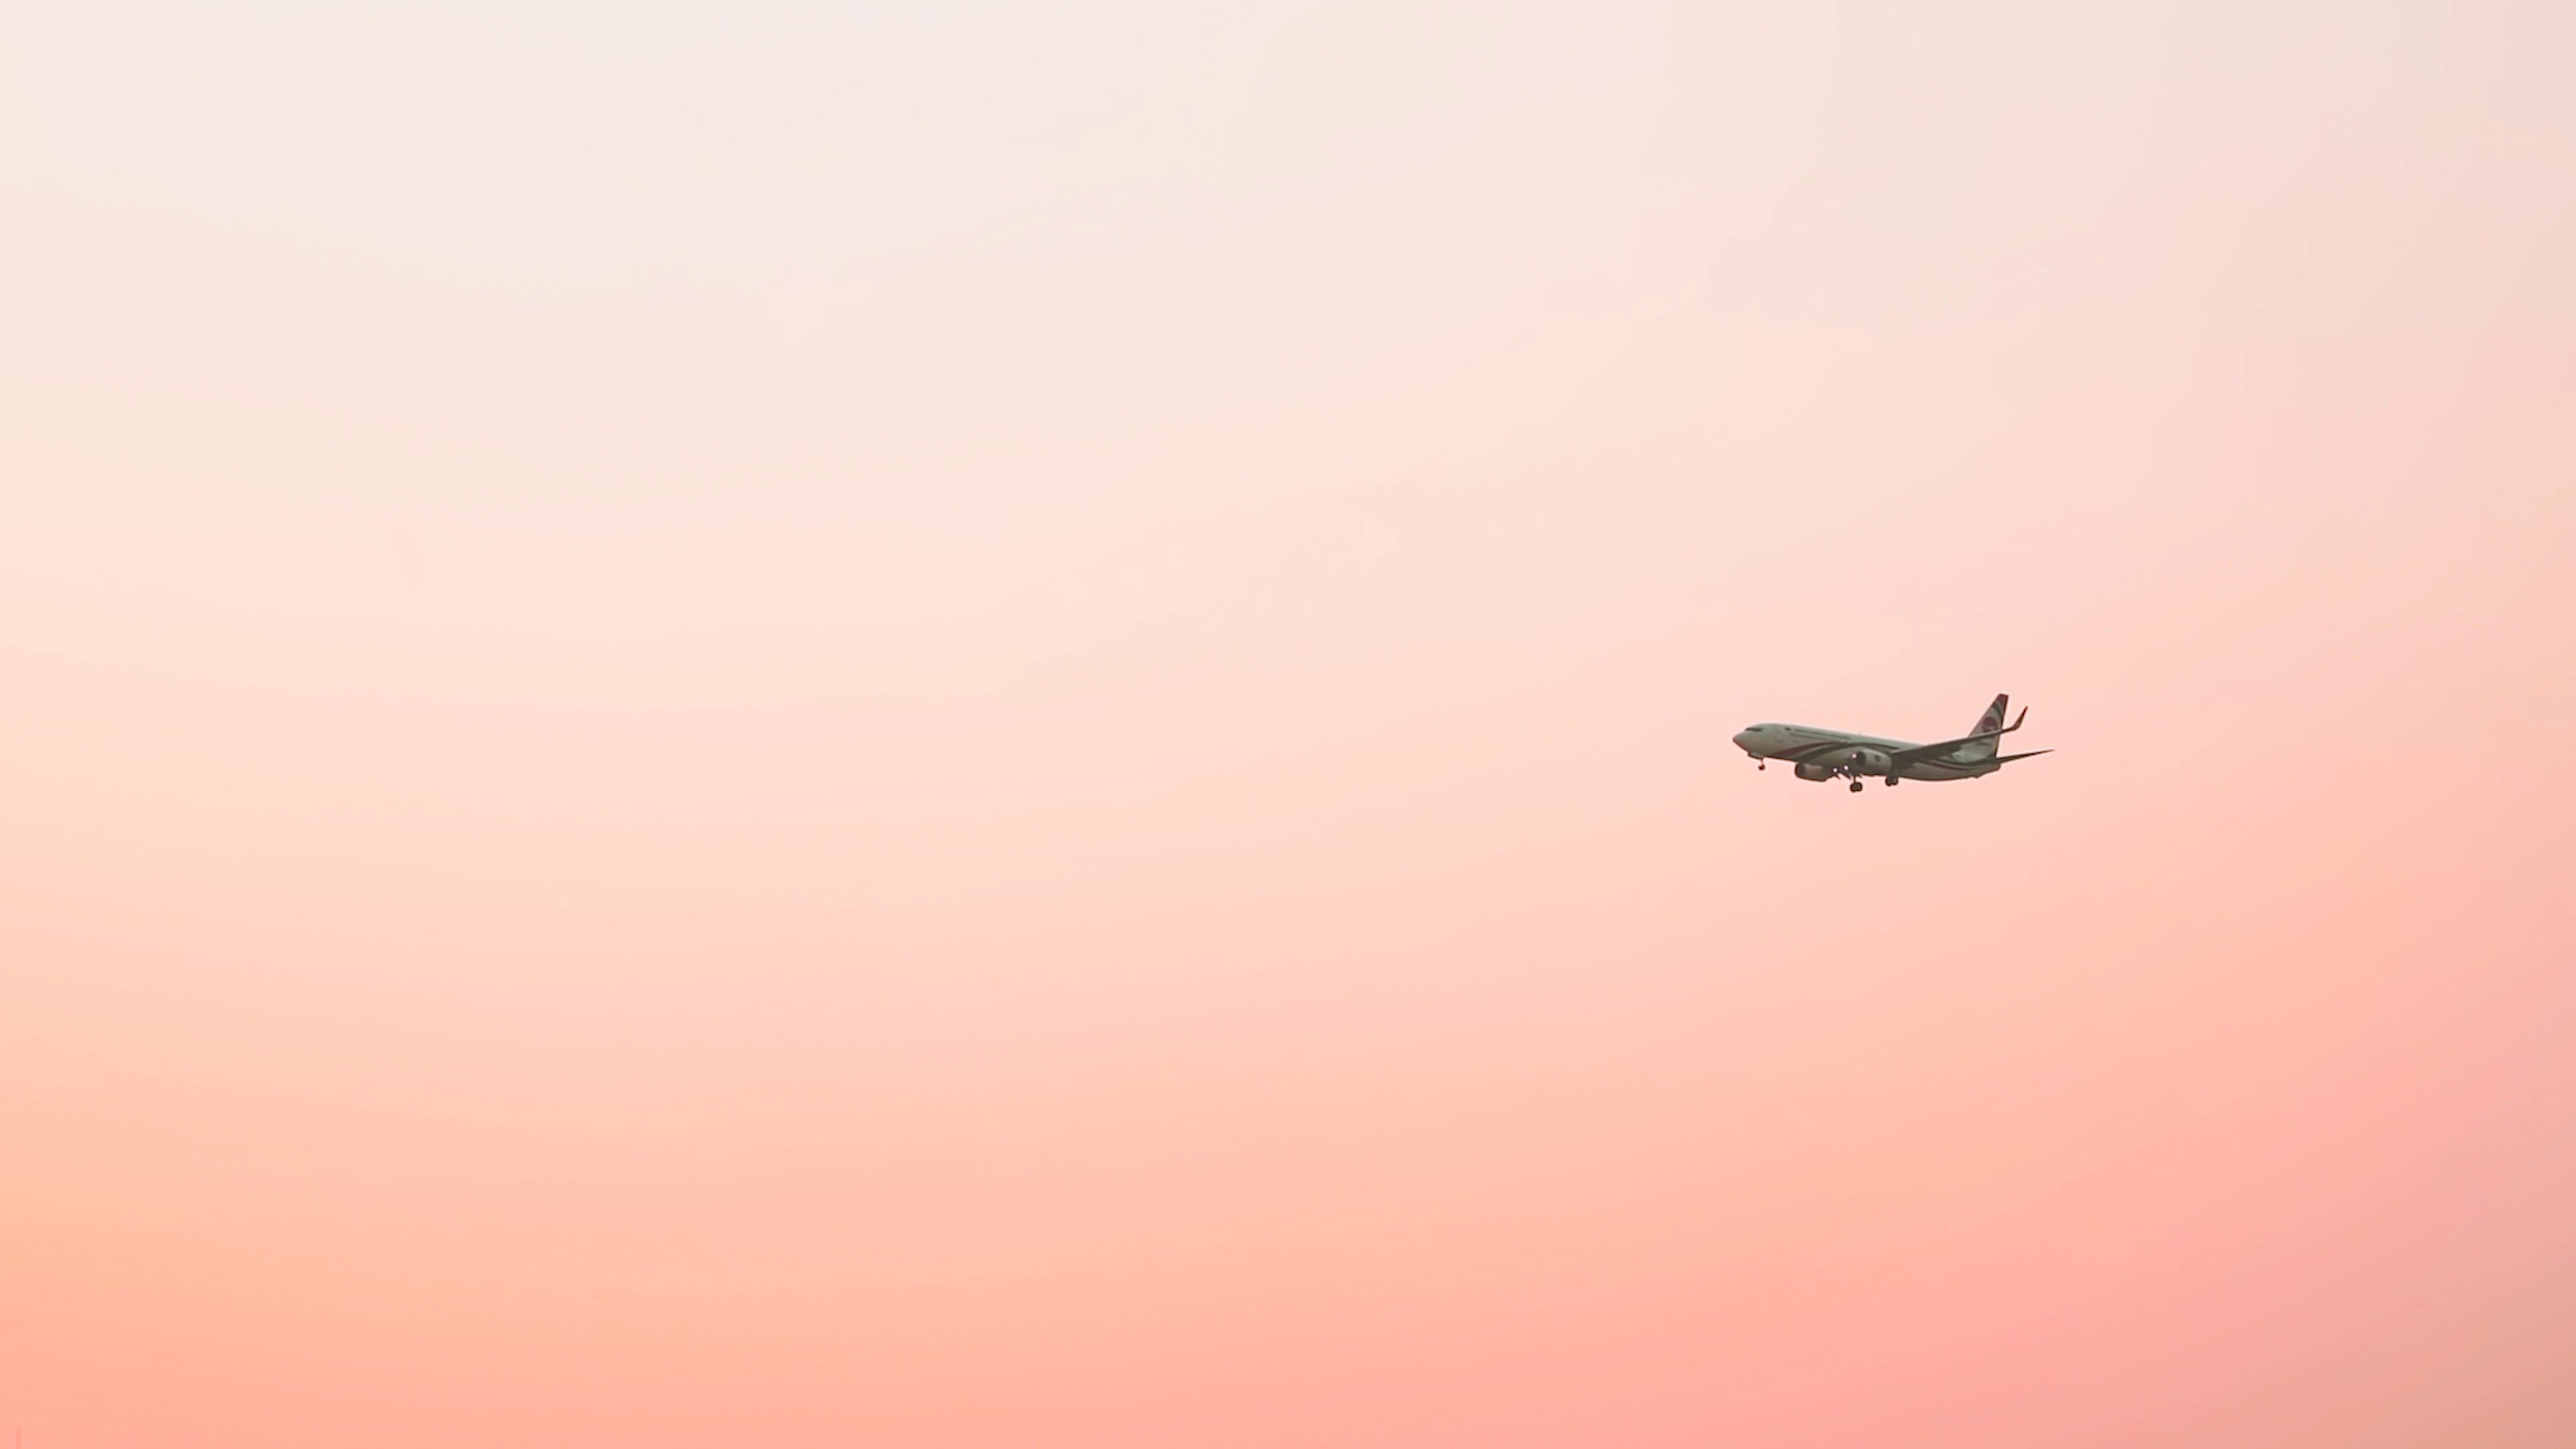plane: (1732, 694, 2058, 793)
